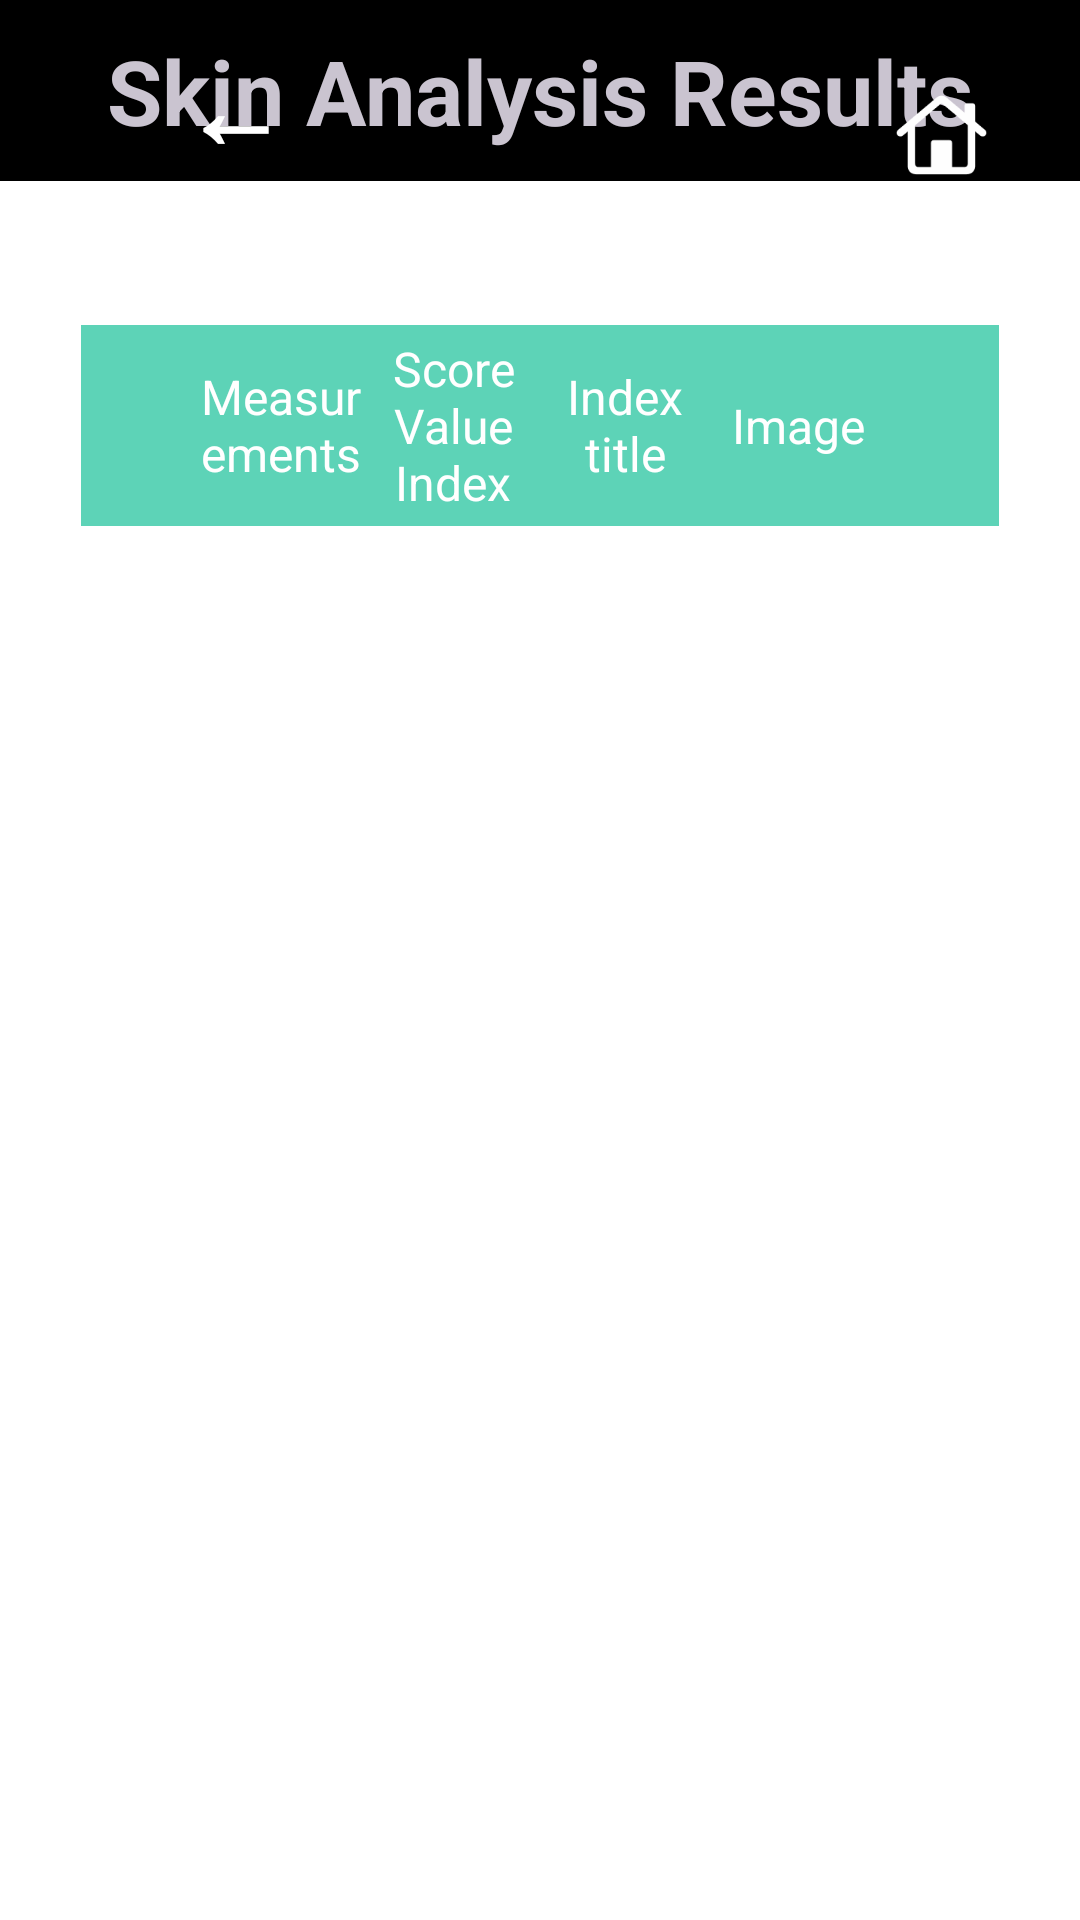

Icons on this 1080w x 1920h Android screen, each with the point to tap as (x,y):
home: (941,132)
